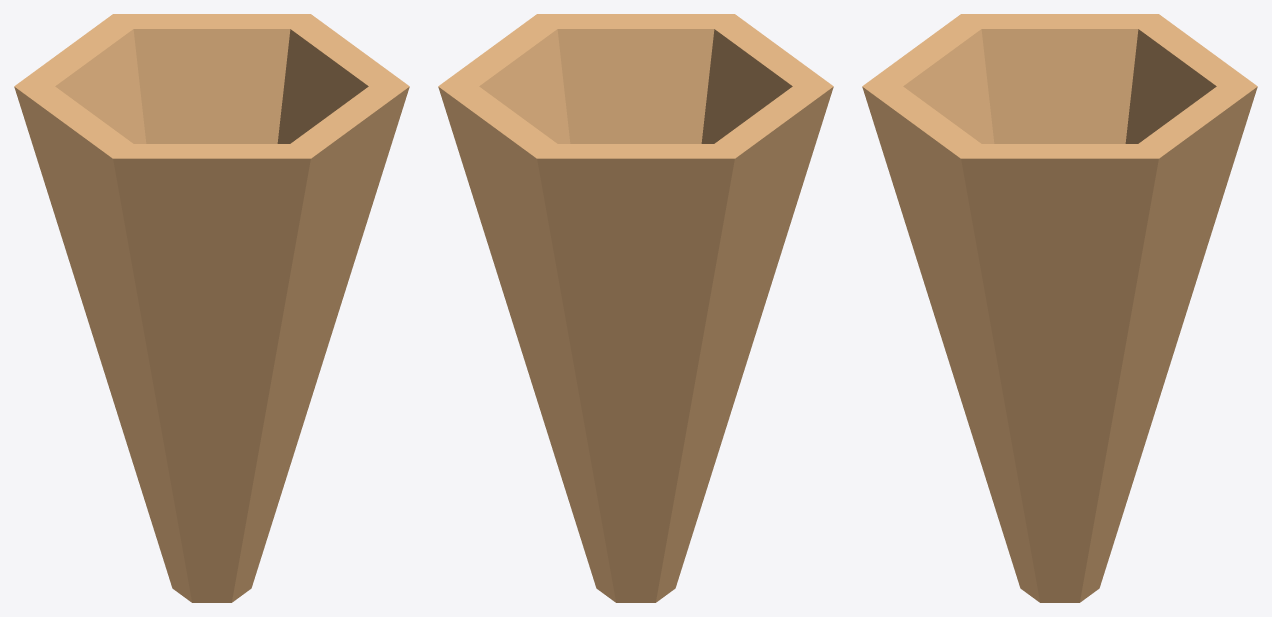
File: iceCreamCone.obj
3 renders of one model, left to right at view 1: azimuth 30°, elevation 25°; view 2: azimuth 150°, elevation 25°; view 3: azimuth 270°, elevation 25°, orthographic.
Parts seen in each view (by area): view 1: iceCreamCone; view 2: iceCreamCone; view 3: iceCreamCone.
Boxes of the visible parts, bbox=[...] form: iceCreamCone: bbox=[14, 14, 409, 602]; iceCreamCone: bbox=[438, 14, 833, 602]; iceCreamCone: bbox=[862, 14, 1257, 602].
Bounding box in the file's own units: 0.1845 × 0.2982 × 0.213.
